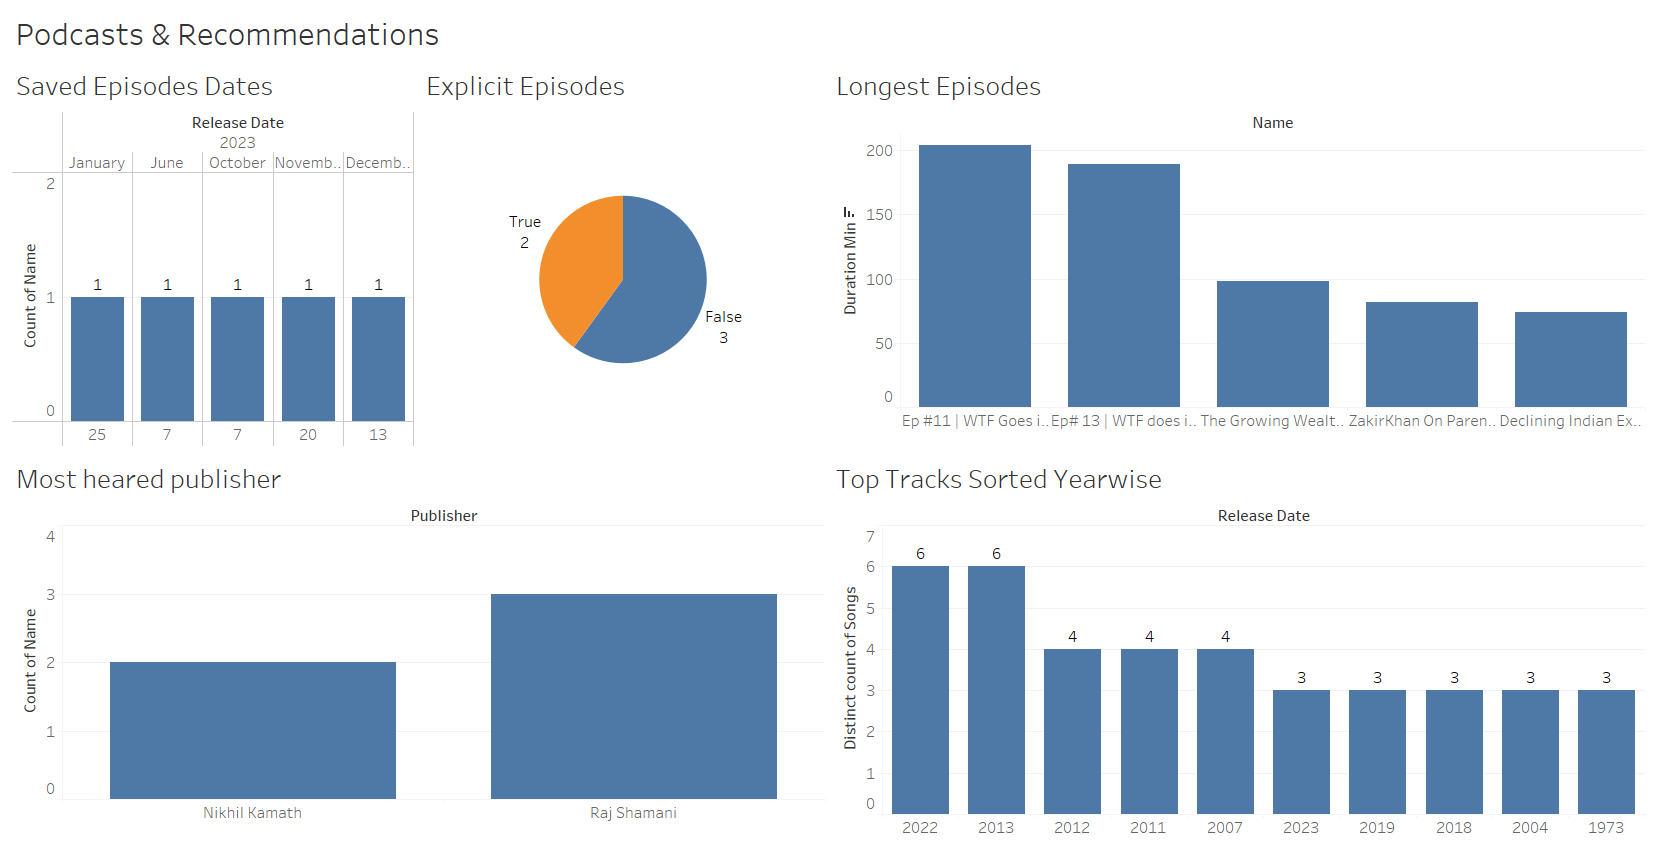

What the dashboard file says about the page in this screenshot:
{"tool":"tableau","page":{"name":"Dashboard 3","canvas":[1000,1000],"units":"permille","ordinal":2},"visuals":[{"type":"title","box":[4.8,9.4,990.3,58.8]},{"type":"worksheet","title":"Saved Episodes Dates","mark":"Bar","rows":["name"],"cols":["release_date","release_date","release_date"],"box":[4.8,68.2,247.6,461.2]},{"type":"worksheet","title":"Explicit Episodes","mark":"Pie","box":[252.4,68.2,247.6,461.2]},{"type":"worksheet","title":"Longest Episodes","mark":"Automatic","rows":["duration_min"],"cols":["name"],"box":[500,68.2,495.2,461.2]},{"type":"worksheet","title":"Most heared publisher","mark":"Automatic","rows":["name"],"cols":["publisher"],"box":[4.8,529.4,495.2,461.2]},{"type":"worksheet","title":"Top Tracks Sorted Yearwise","mark":"Bar","rows":["songs"],"cols":["release_date"],"box":[500,529.4,495.2,461.2]}]}

Visuals, with their boxes on the dashboard's canvas, which has no fixed pixel size, in thousandths of its width and height (x1, y1, x2, y2). These are canvas units, not pixel positions in the 1657x851 screenshot, which may show the page scaled, cropped or inside an application window:
title: <box>5,9,995,68</box>
"Saved Episodes Dates" worksheet (Bar marks): <box>5,68,252,529</box>
"Explicit Episodes" worksheet (Pie marks): <box>252,68,500,529</box>
"Longest Episodes" worksheet: <box>500,68,995,529</box>
"Most heared publisher" worksheet: <box>5,529,500,991</box>
"Top Tracks Sorted Yearwise" worksheet (Bar marks): <box>500,529,995,991</box>
